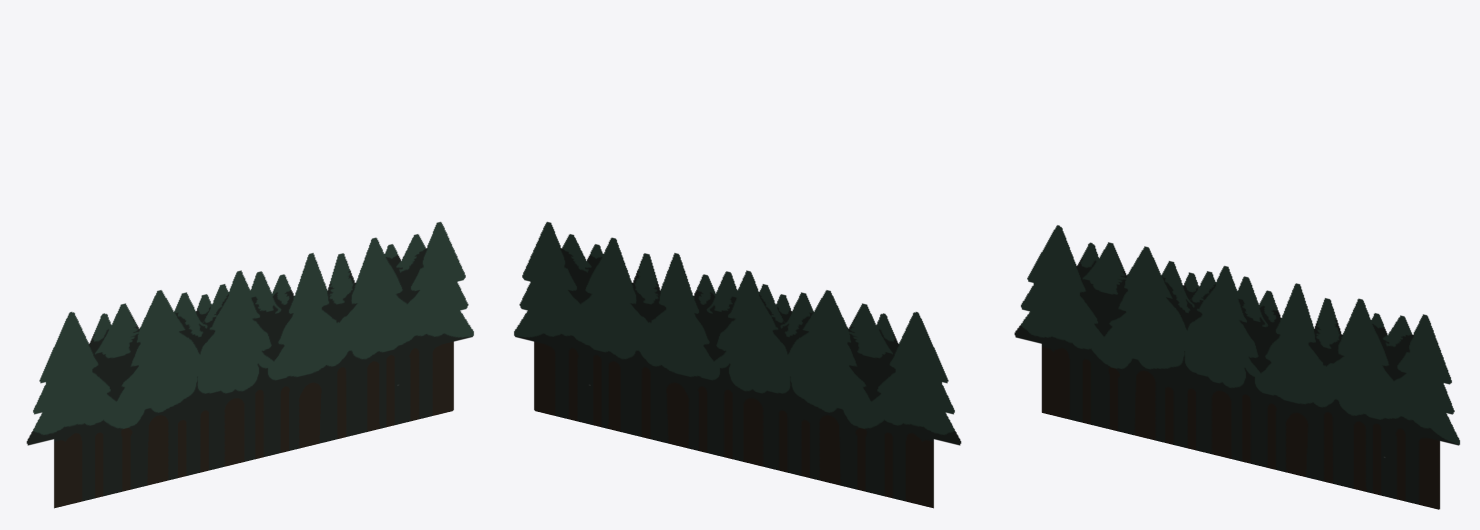
File: TreeIndividuals.glb
3 views of the same model, side by side, from view 1: azimuth 30°, elevation 25°; view 2: azimuth 150°, elevation 25°; view 3: azimuth 330°, elevation 25° (orthographic).
Visible parts, largest first — view 1: treeLineMesh; view 2: treeLineMesh; view 3: treeLineMesh.
Part boxes in pixels (left/top/right/bottom): treeLineMesh: left=26, top=222, right=473, bottom=508; treeLineMesh: left=514, top=222, right=961, bottom=508; treeLineMesh: left=1014, top=225, right=1459, bottom=509.
Bounding box in the file's own units: 12.34 × 9.89 × 4.52e-07.
Materials: 1 (1 with a texture image).
